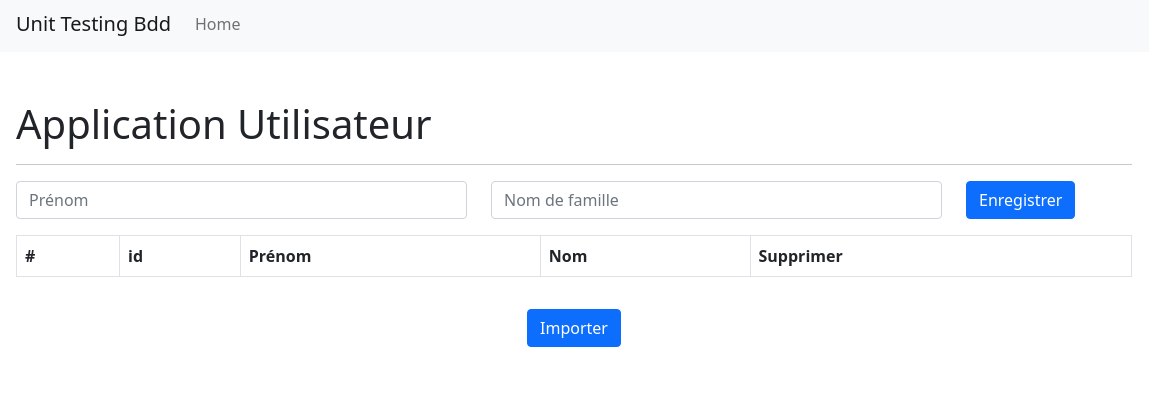
Scenario: Test du formulaire › should add user in the page
This screenshot has width=1149, height=413.
Type "PhilippeTest" into the field with test id "input-prenom" at x=242, y=200, box [16, 181, 467, 219]
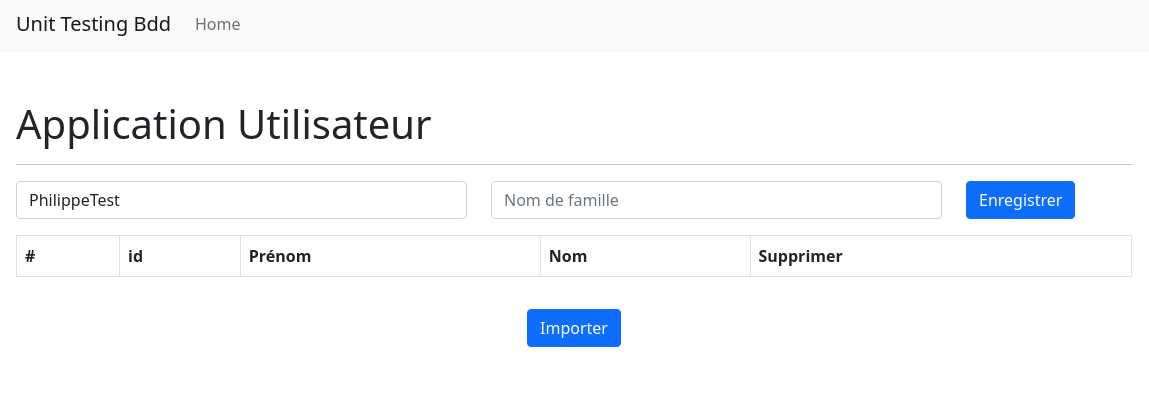
Type "LarratTest" into the field with test id "input-nom" at x=716, y=200, box [491, 181, 942, 219]
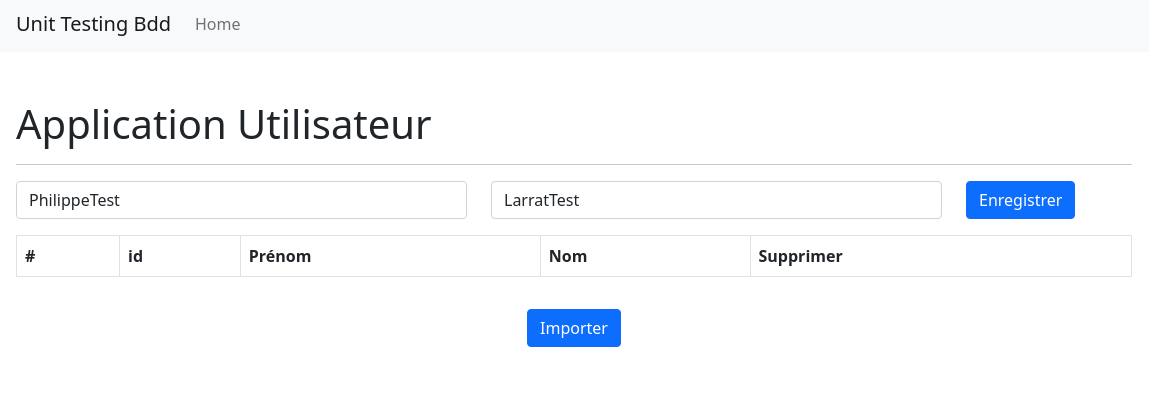
Click the button with test id "btn-submit" at x=1021, y=200, box [966, 181, 1075, 219]
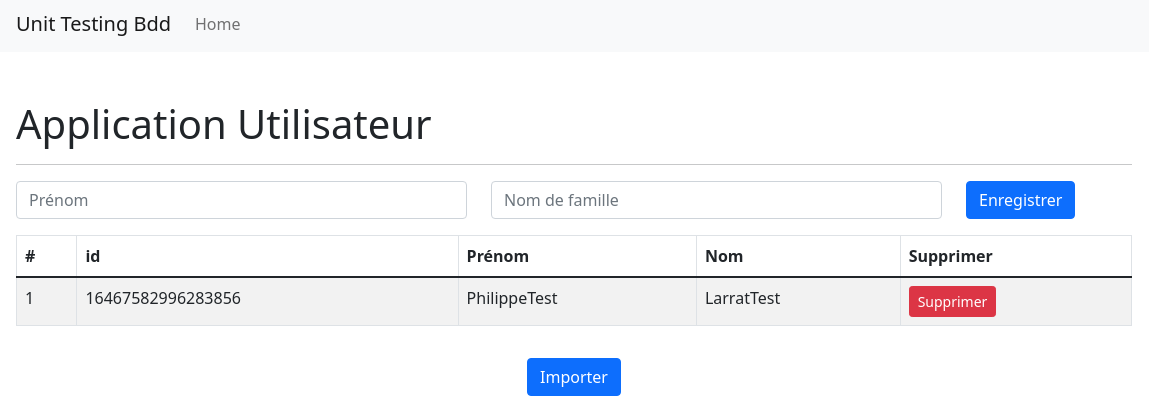
Expected: the text "PhilippeTest" is shown, [458, 277, 696, 326]
Expected: the text "LarratTest" is shown, [696, 277, 900, 326]
Expected: the field with test id "input-prenom" is empty, [16, 181, 467, 219]
